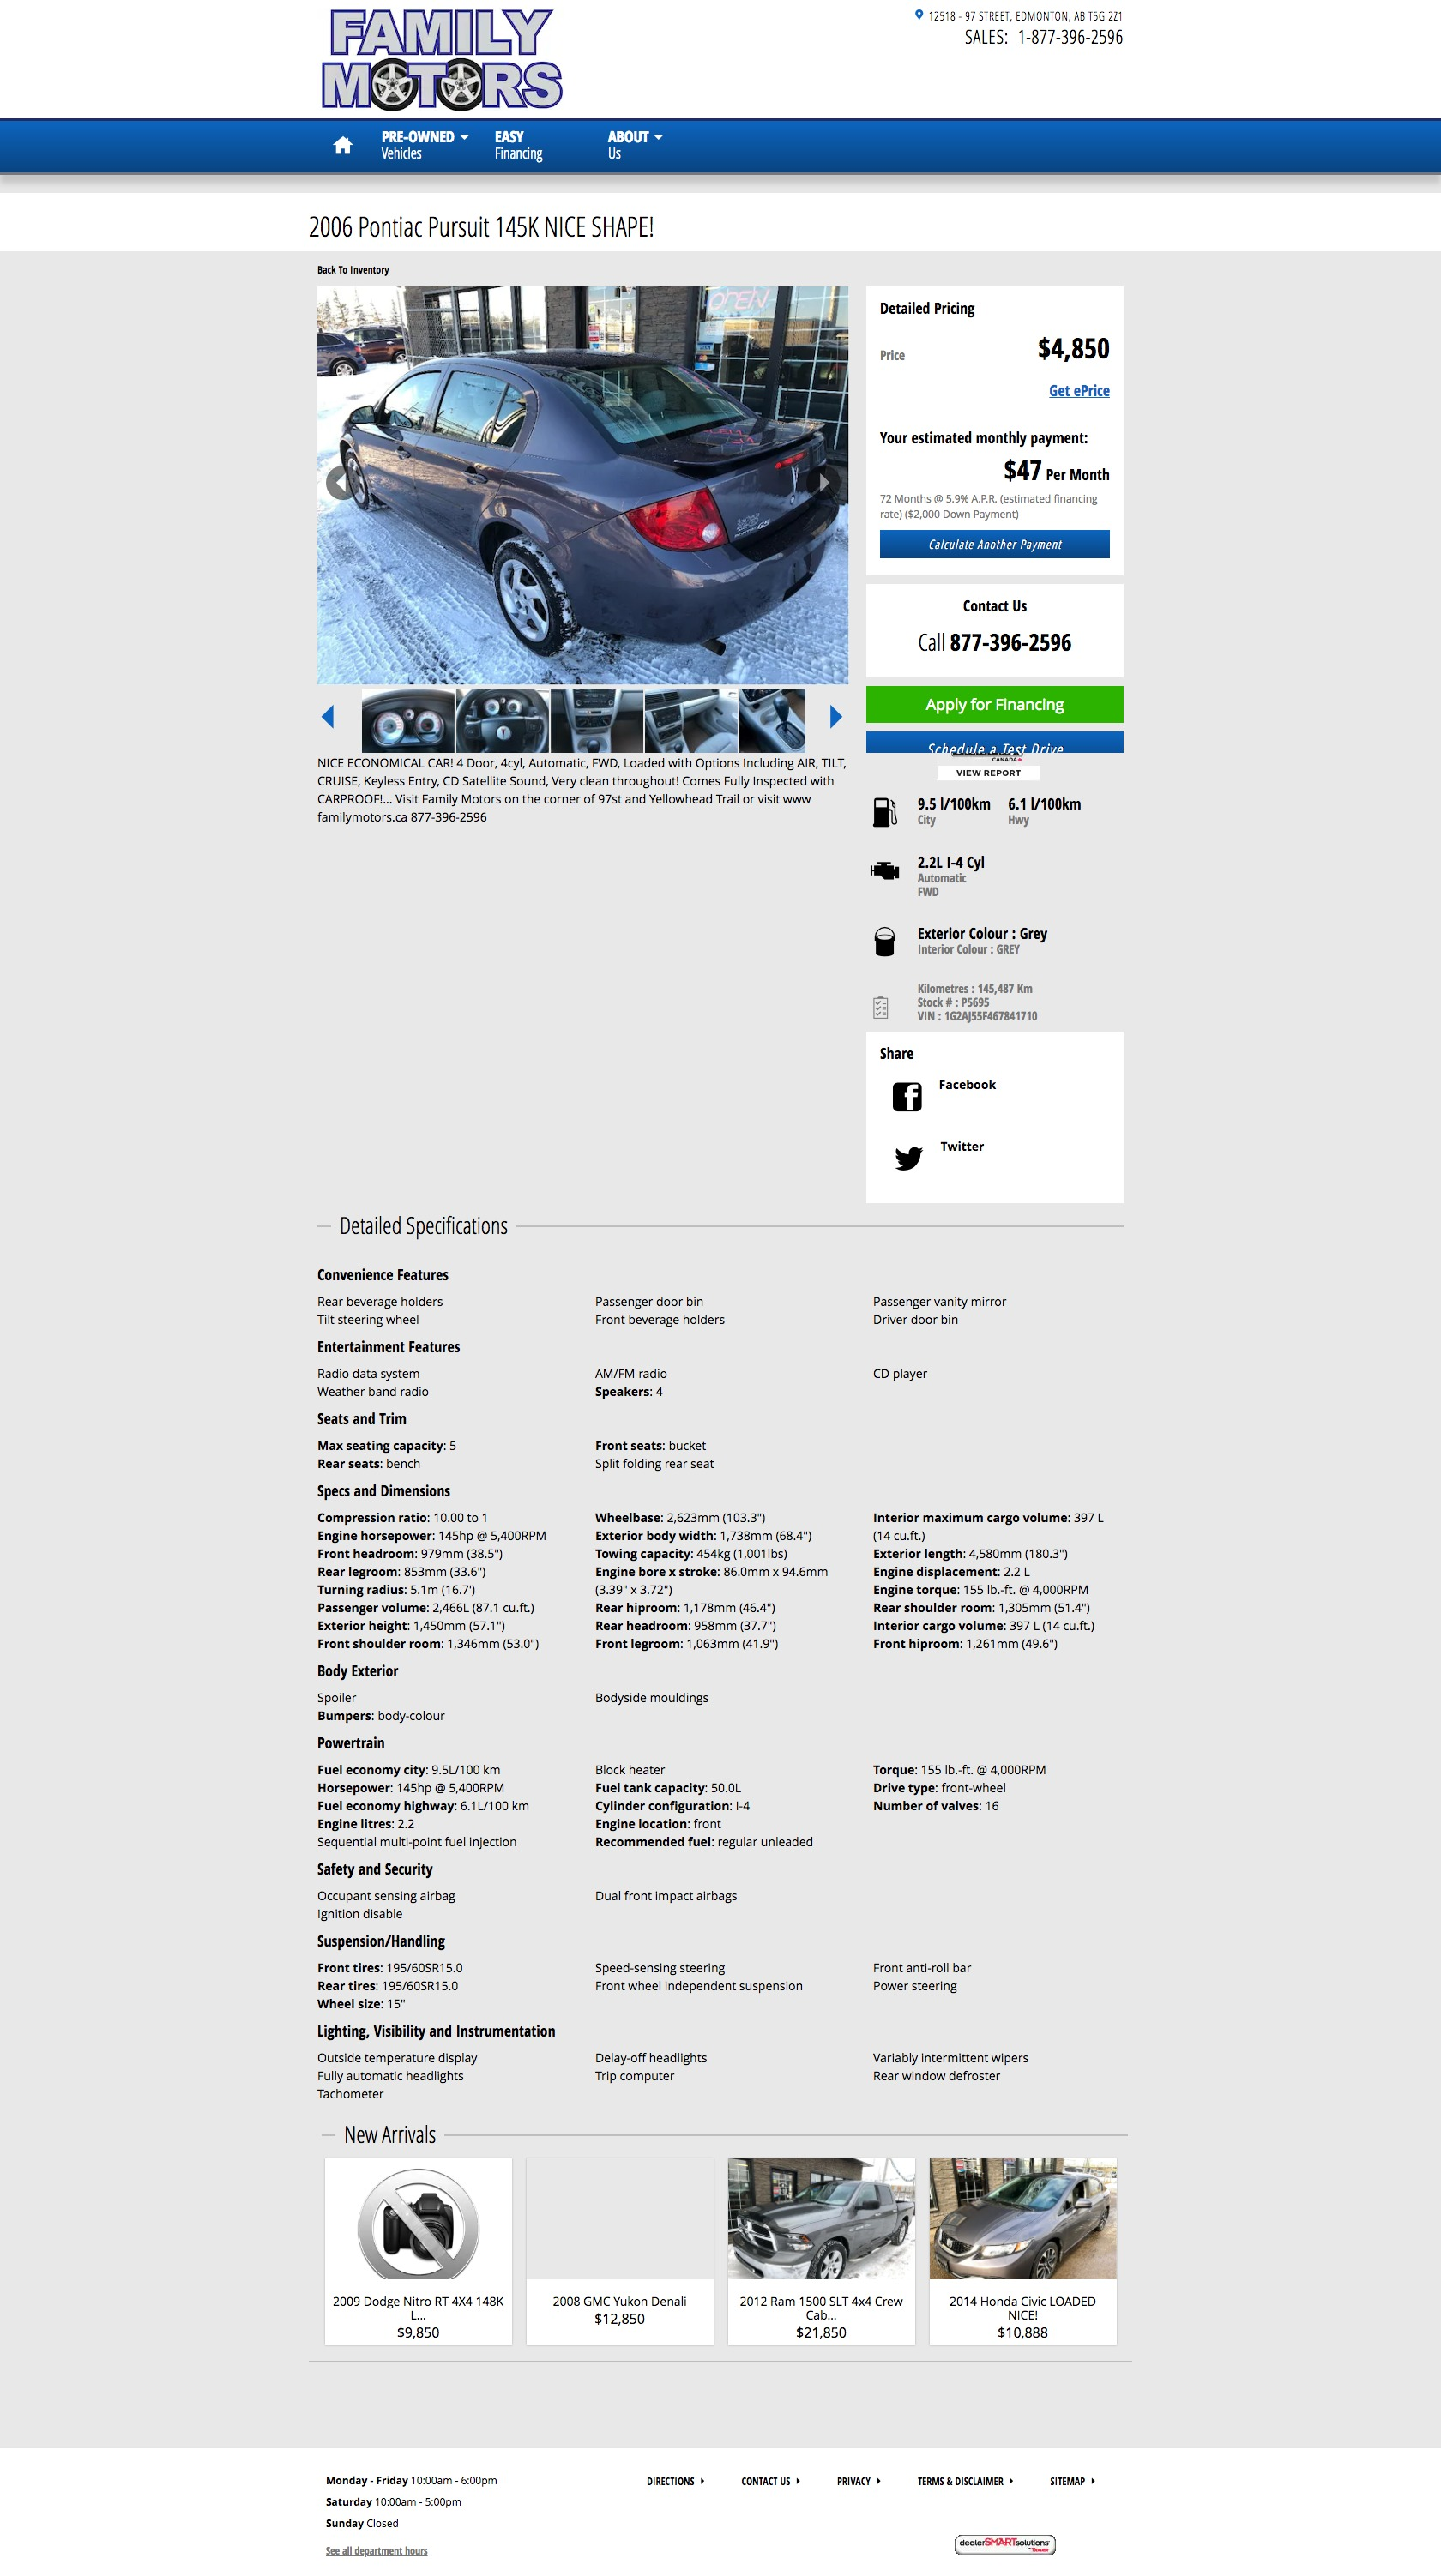car: (830, 706, 843, 729)
